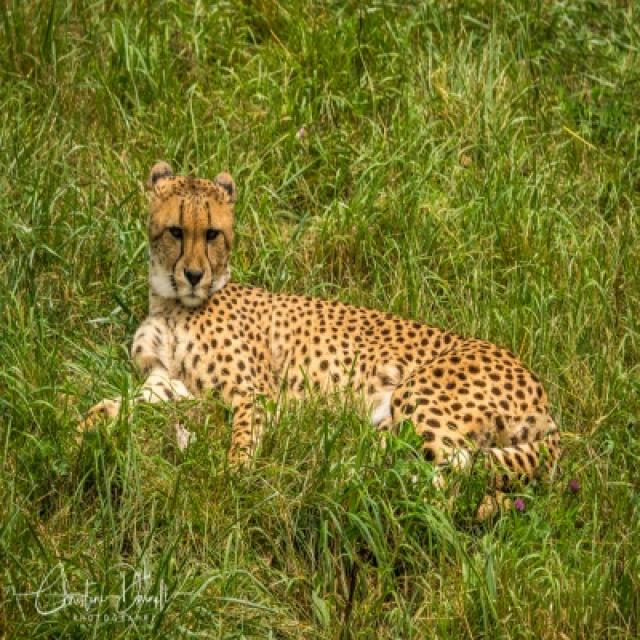Cheetah: (91, 160, 563, 508)
